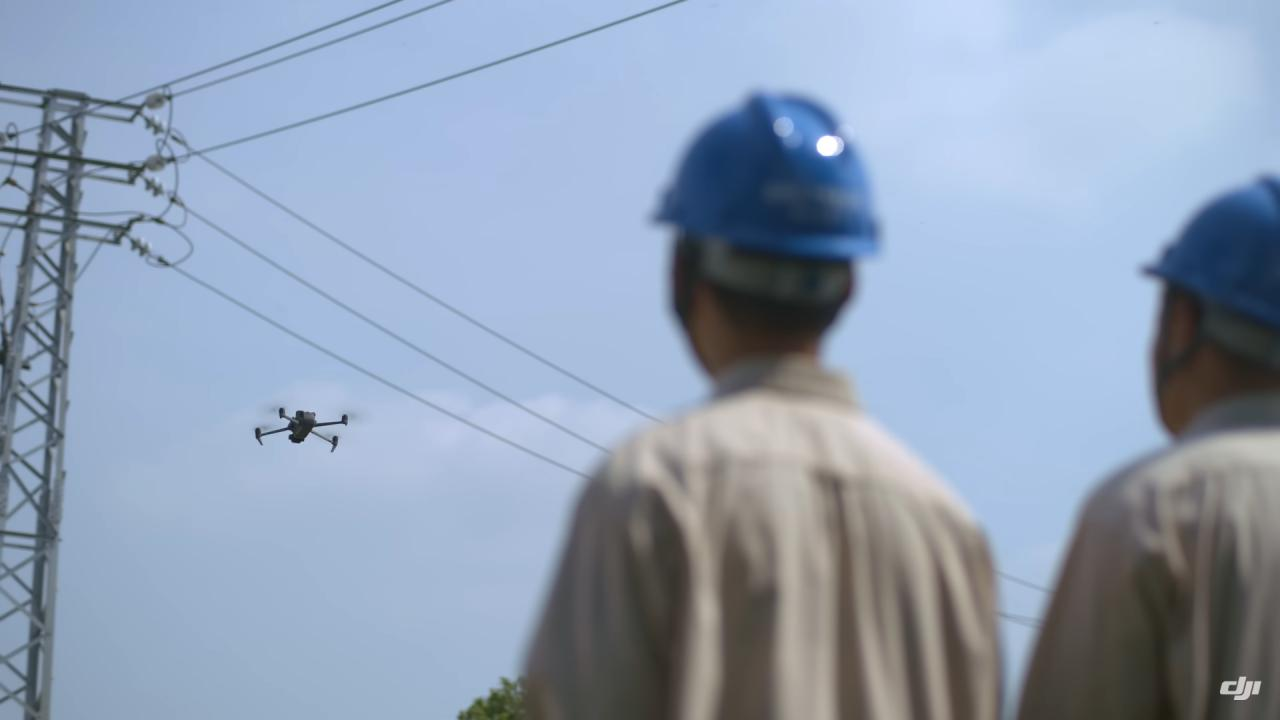Drone: (238, 395, 375, 462)
